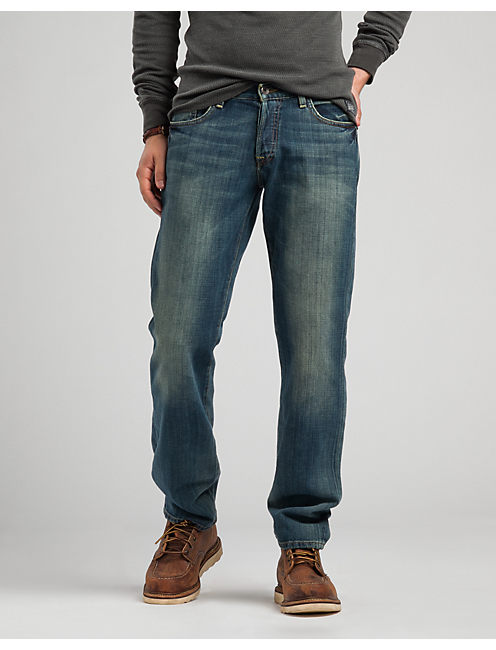Jeans: (144, 89, 363, 546)
